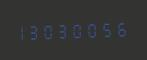five: (101, 19, 114, 38)
one: (17, 21, 30, 41)
six: (115, 18, 128, 38)
three: (31, 21, 44, 41), (59, 20, 72, 40)
zero: (45, 20, 58, 40), (87, 19, 100, 39), (73, 20, 86, 39)
